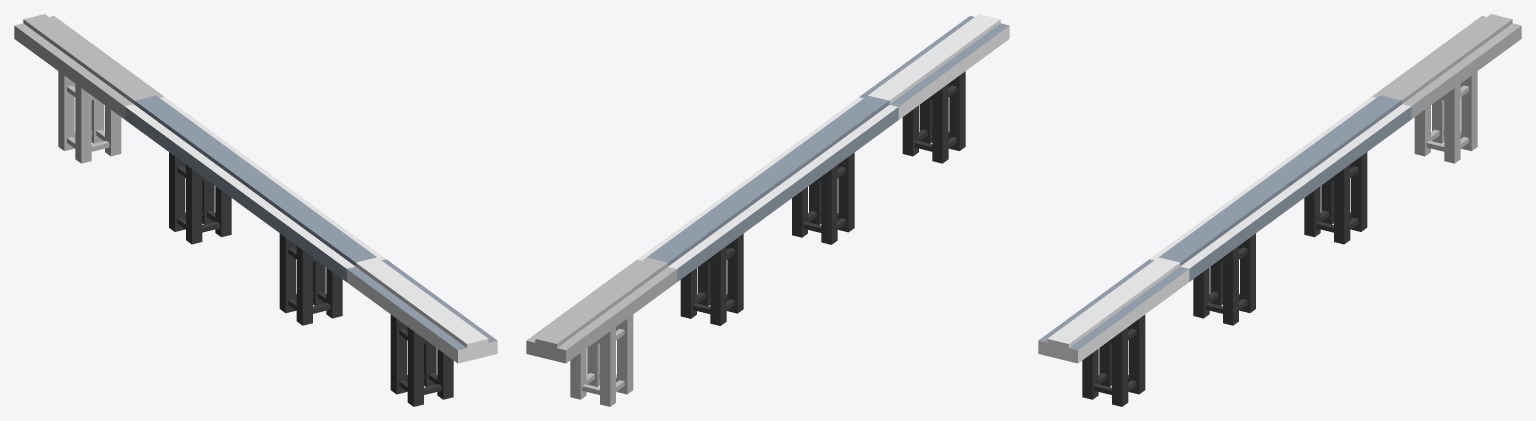
The model's file is recta tren.obj.
3 views of the same model, side by side, from view 1: azimuth 30°, elevation 25°; view 2: azimuth 150°, elevation 25°; view 3: azimuth 330°, elevation 25° (orthographic).
Parts seen in each view (by area): view 1: mesh_0, mesh_3, mesh_8, mesh_11, mesh_7, mesh_10, mesh_5, mesh_2, mesh_6, mesh_1, mesh_9, mesh_4; view 2: mesh_3, mesh_0, mesh_8, mesh_11, mesh_7, mesh_2, mesh_5, mesh_10, mesh_4, mesh_6, mesh_1, mesh_9; view 3: mesh_0, mesh_11, mesh_3, mesh_8, mesh_2, mesh_7, mesh_5, mesh_10, mesh_6, mesh_1, mesh_9, mesh_4.
Part boxes in pixels (x1,y1,x2,y2): mesh_0: (347,257,497,363); mesh_3: (14,14,155,119); mesh_8: (235,176,376,281); mesh_11: (125,95,266,200); mesh_7: (390,314,453,406); mesh_10: (279,233,342,325); mesh_5: (58,71,121,163); mesh_2: (169,152,231,244); mesh_6: (347,259,497,350); mesh_1: (125,96,275,187); mesh_9: (236,178,385,268); mesh_4: (14,16,163,106); mesh_3: (526,257,677,363); mesh_0: (868,14,1009,119); mesh_8: (757,95,898,201); mesh_11: (647,177,787,281); mesh_7: (902,71,965,163); mesh_2: (680,234,743,325); mesh_5: (570,314,633,406); mesh_10: (792,152,854,244); mesh_4: (526,259,676,350); mesh_6: (859,16,1009,106); mesh_1: (637,178,786,269); mesh_9: (748,97,897,188); mesh_0: (1038,257,1189,363); mesh_11: (1270,95,1411,200); mesh_3: (1380,14,1521,119); mesh_8: (1158,176,1299,281); mesh_2: (1304,152,1367,244); mesh_7: (1082,314,1145,406); mesh_5: (1414,71,1477,163); mesh_10: (1193,233,1255,325); mesh_6: (1038,259,1188,350); mesh_1: (1260,97,1410,187); mesh_9: (1149,178,1299,268); mesh_4: (1371,16,1521,106).
Size of the model in its own units: 0.2068 by 0.4609 by 3.98.
